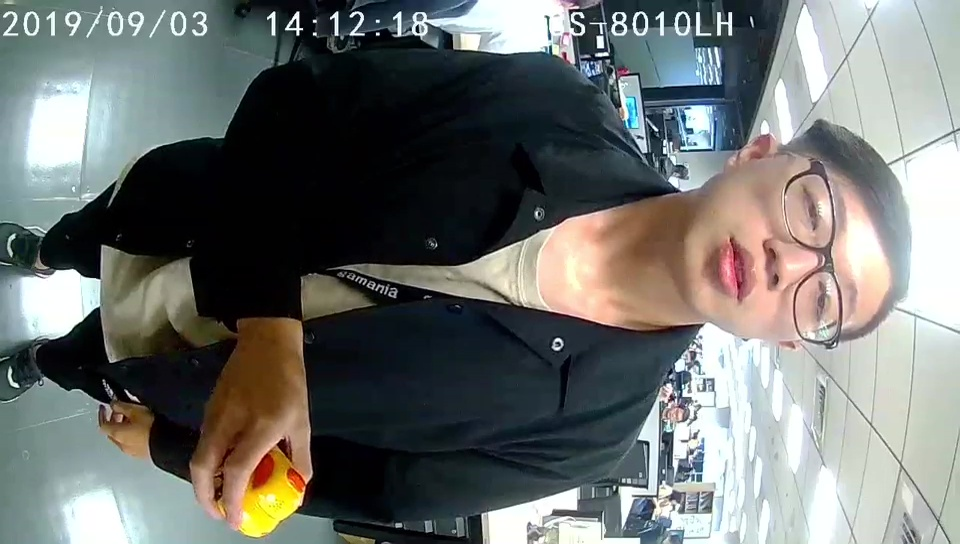car: (222, 440, 305, 537)
